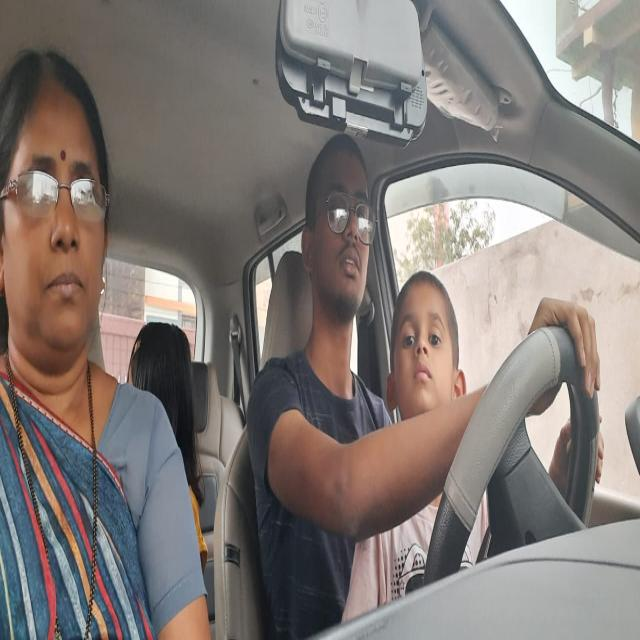child: (384, 270, 468, 443)
person: (0, 51, 109, 395), (301, 121, 375, 338), (127, 320, 200, 494)
